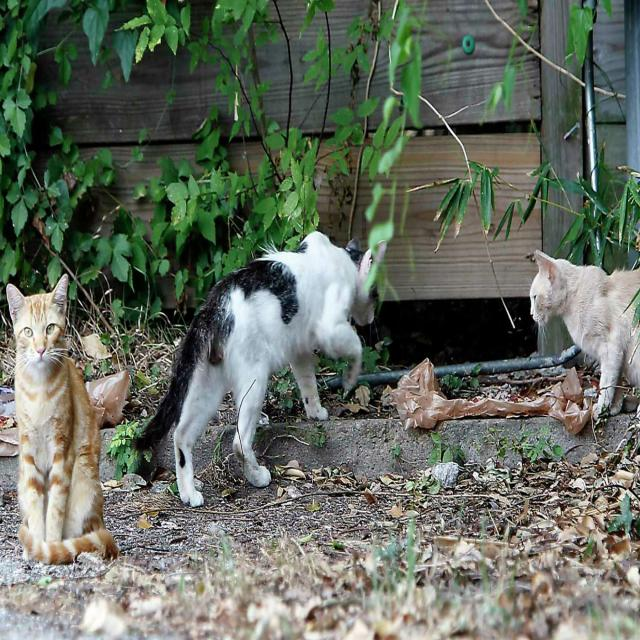cat: (138, 231, 378, 506), (6, 276, 119, 564), (530, 251, 640, 416)
